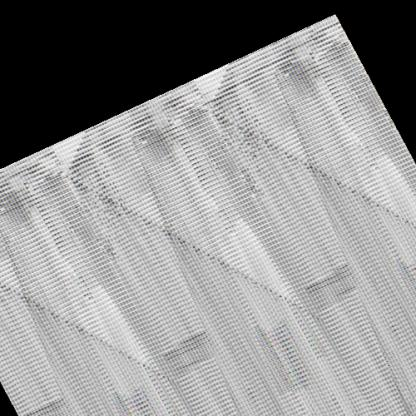Damage: (154, 84, 277, 166)
